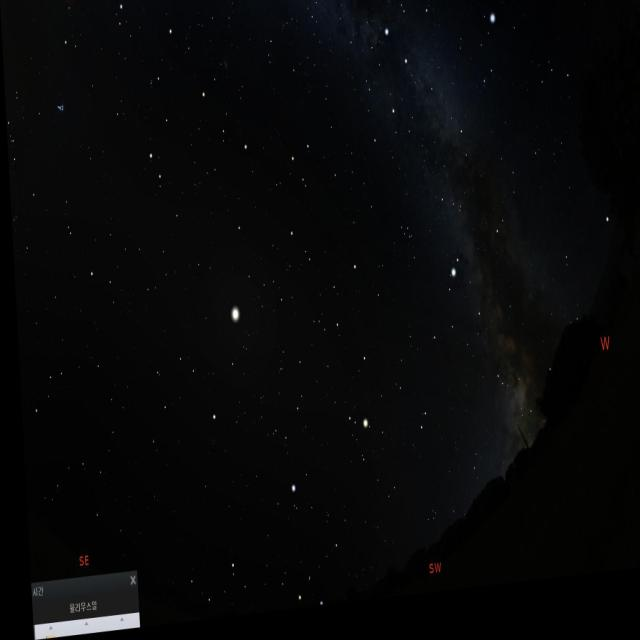aquila: (416, 253, 516, 413)
cygnus: (375, 7, 466, 164)
lyra: (467, 16, 504, 117)
pleiades: (44, 86, 72, 129)
